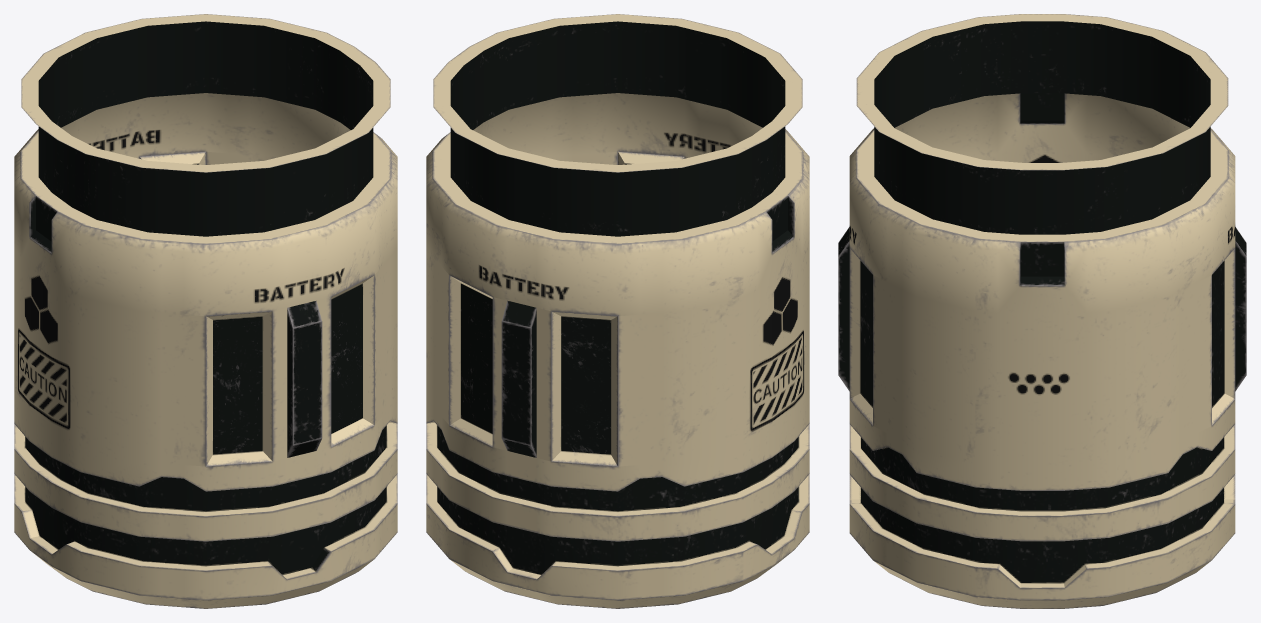
File: player_armor_3.fbx
The picture shows the model from 3 angles, left to right: view 1: azimuth 30°, elevation 25°; view 2: azimuth 150°, elevation 25°; view 3: azimuth 270°, elevation 25°; orthographic projection.
Parts seen in each view (by area): view 1: Sci-fi Barrel; view 2: Sci-fi Barrel; view 3: Sci-fi Barrel.
Boxes of the visible parts, x1=… form: Sci-fi Barrel: x1=14, y1=14, x2=397, y2=608; Sci-fi Barrel: x1=426, y1=14, x2=809, y2=608; Sci-fi Barrel: x1=838, y1=14, x2=1246, y2=608.
Bounding box in the file's own units: 6442 × 8216 × 6858.
